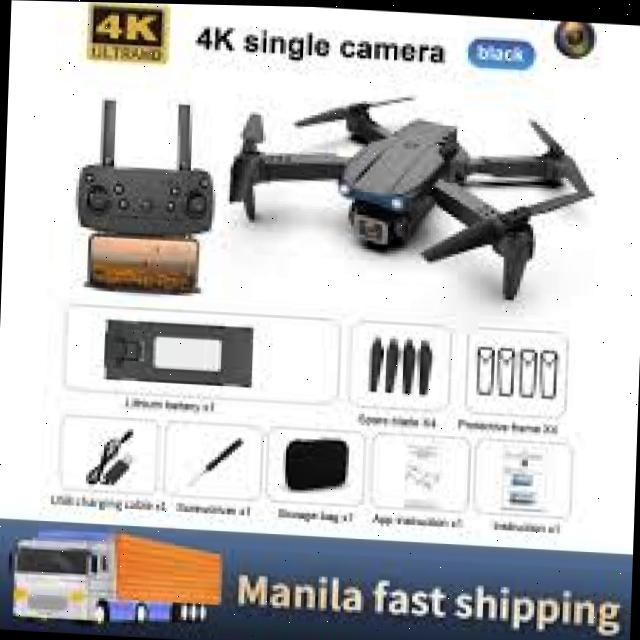drone: (214, 71, 610, 305)
